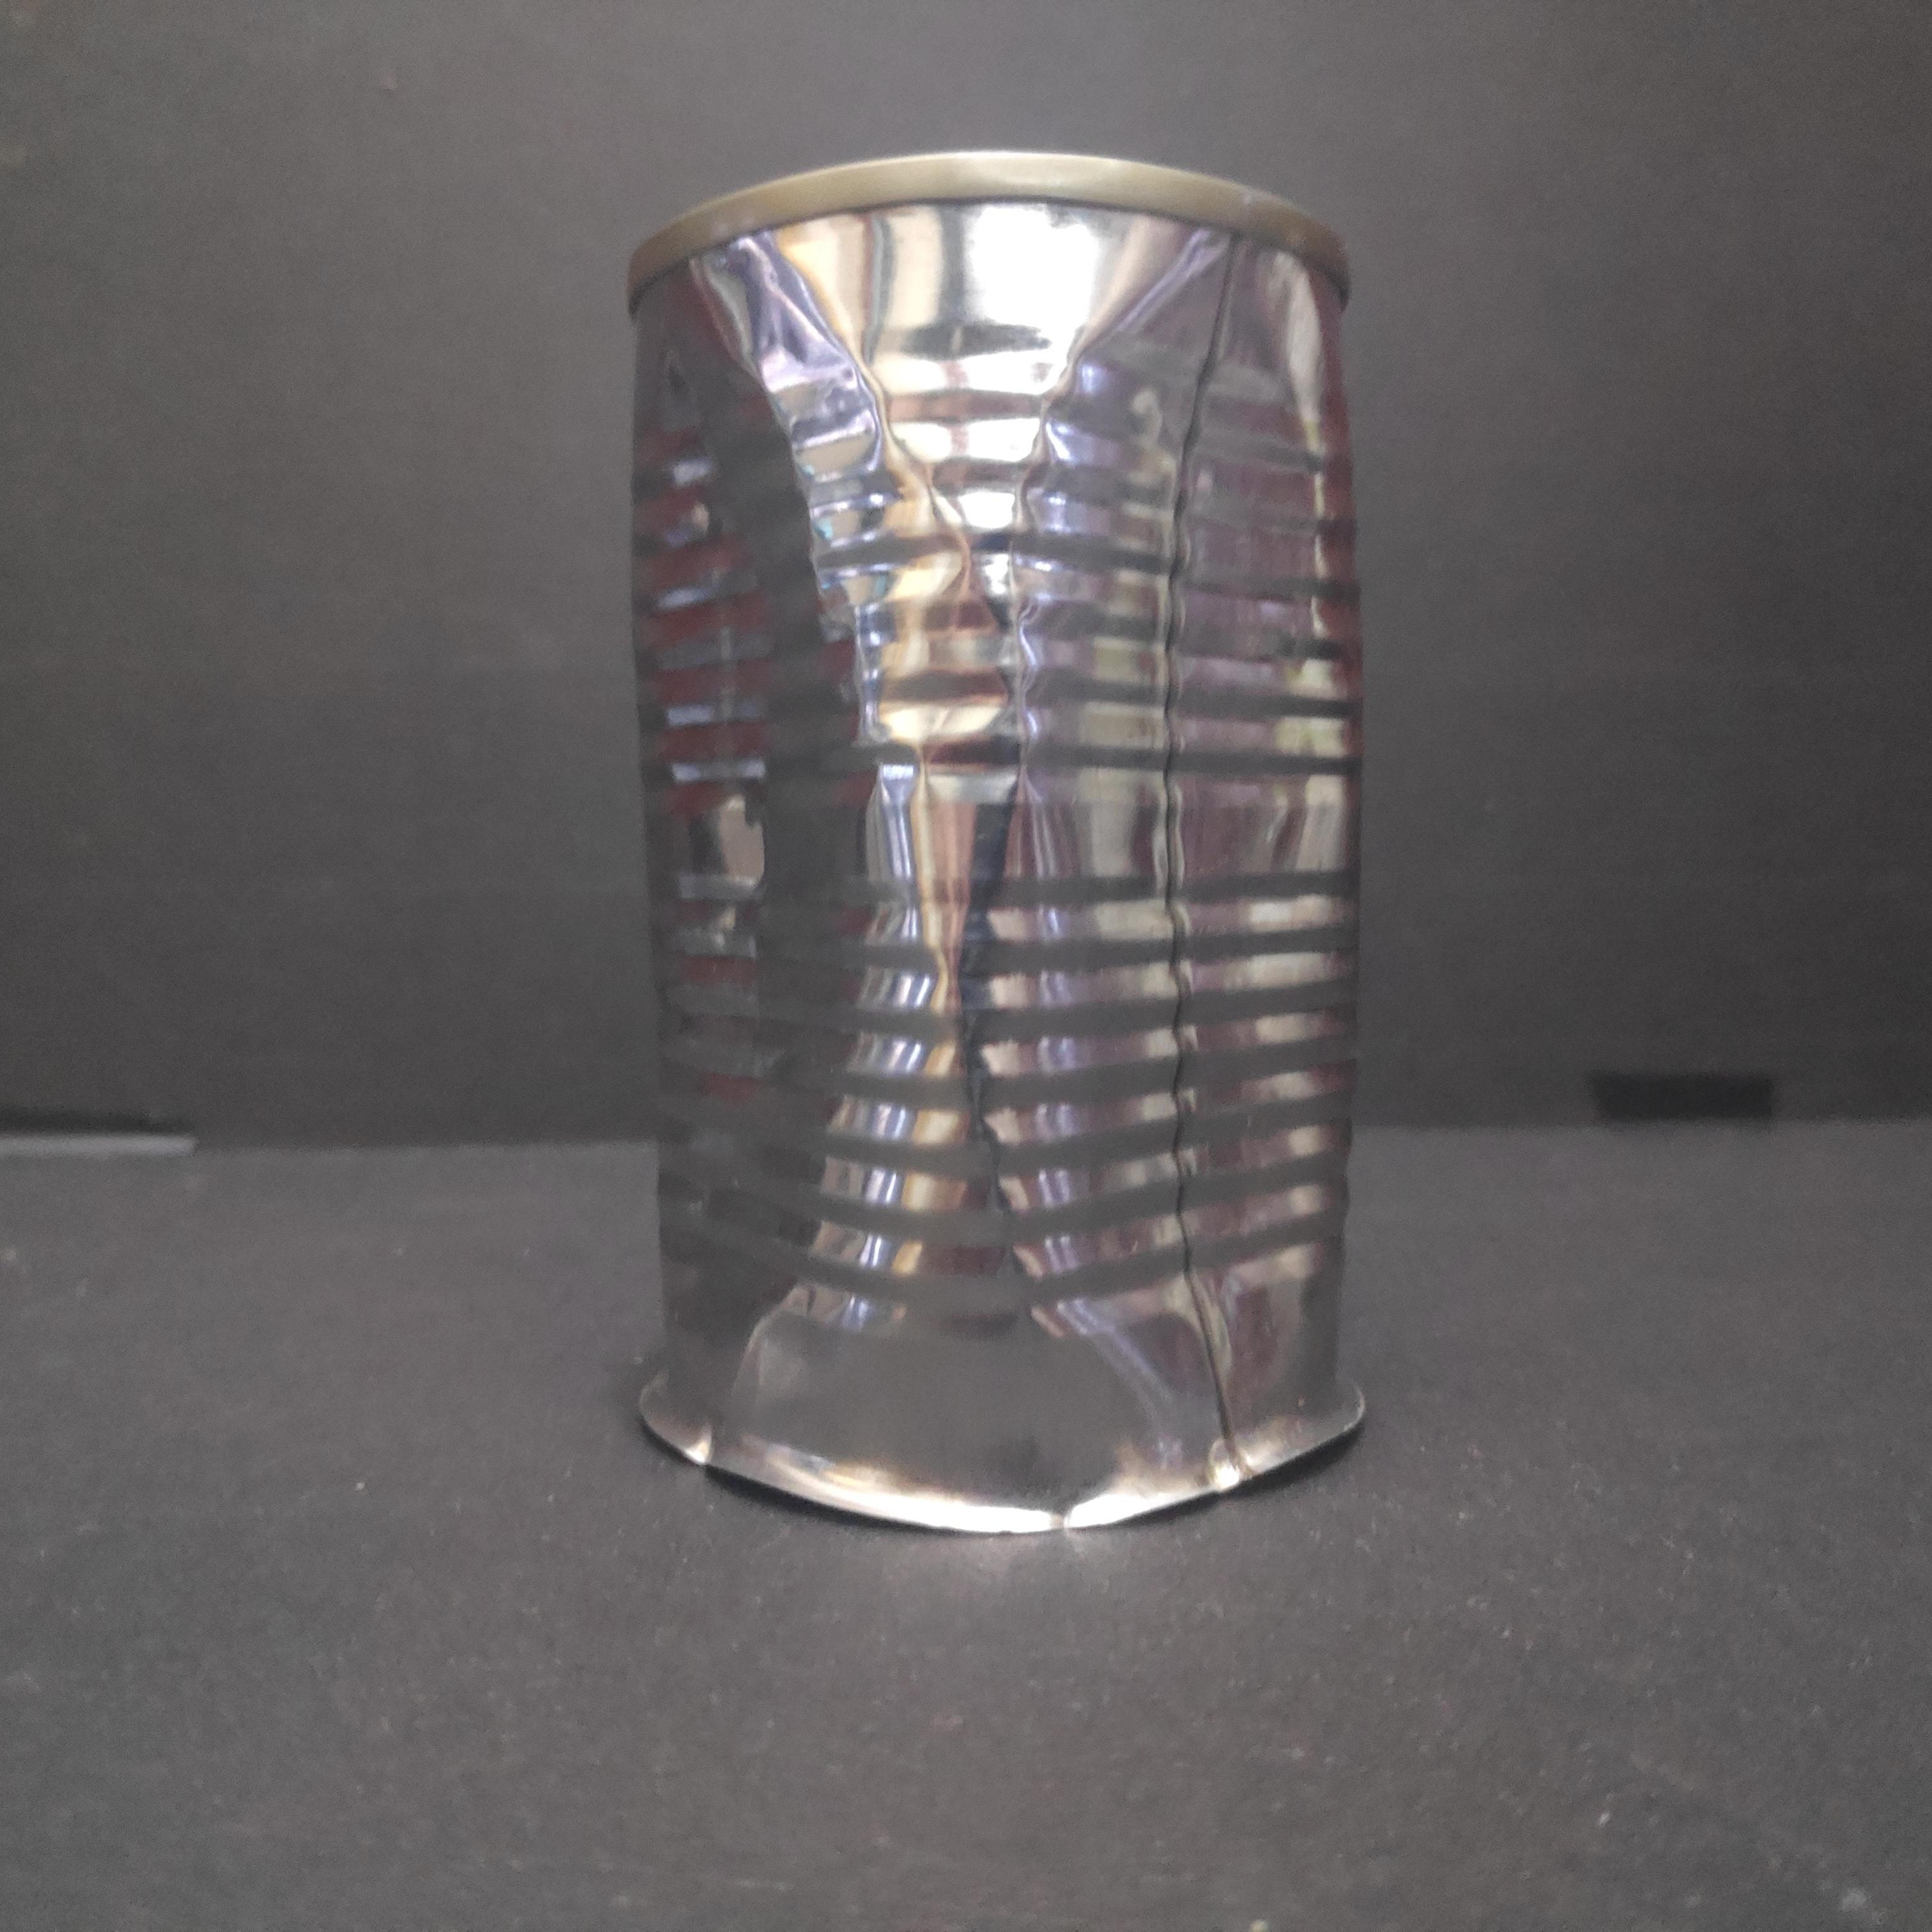Dented: (600, 127, 1389, 1553)
